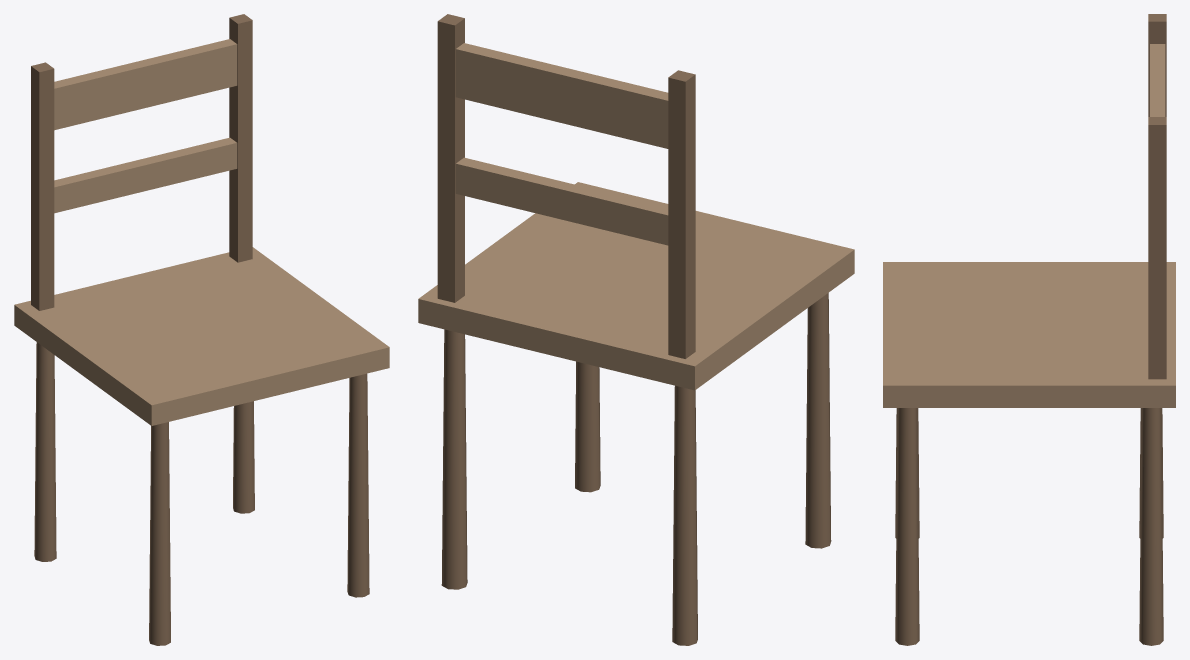
Rendered from 0967-Furniture-interiors-chair.glb.
The picture shows the model from 3 angles, left to right: view 1: azimuth 30°, elevation 25°; view 2: azimuth 150°, elevation 25°; view 3: azimuth 270°, elevation 25°; orthographic projection. The views are drawn at different scales.
Parts seen in each view (by area): view 1: Furniture (interiors)/chair; view 2: Furniture (interiors)/chair; view 3: Furniture (interiors)/chair.
Part boxes in pixels (x1,y1,x2,y2): Furniture (interiors)/chair: [14, 14, 389, 645]; Furniture (interiors)/chair: [418, 14, 854, 645]; Furniture (interiors)/chair: [883, 14, 1175, 645].
Bounding box in the file's own units: 0.48 × 0.94 × 0.48.
